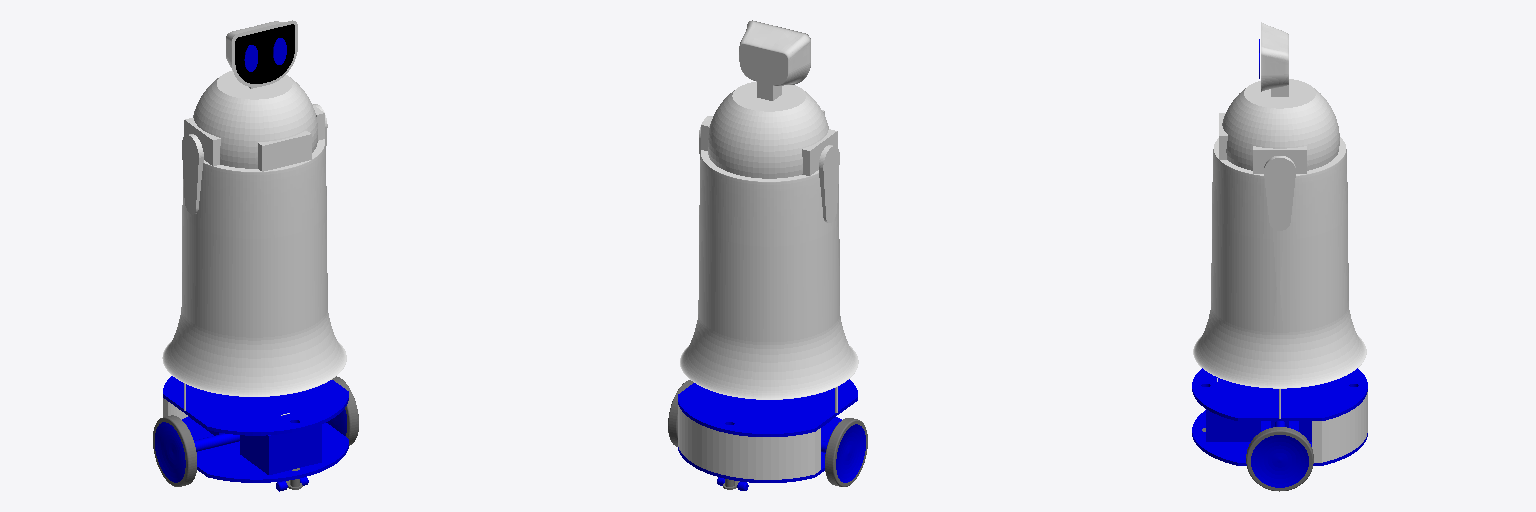
--- What the picture shows (computed from the rendered views, not written in the file) ---
3 views of the same robot in one strip: view 1: azimuth 30°, elevation 25°; view 2: azimuth 150°, elevation 25°; view 3: azimuth 270°, elevation 25° (orthographic).
Model Walter with 13 links and 12 joints (2 revolute, 10 fixed), rooted at fijos_inferior, posed all joints at 0.
Visible links, largest first — view 1: panza, fijos_inferior, cabeza_pecho, rueda, pantalla, rueda_2; view 2: panza, cabeza_pecho, fijos_inferior, rueda; view 3: panza, cabeza_pecho, fijos_inferior, rueda_2.
Link boxes in pixels (box(x1,y1,x2,y2)): panza: box(162, 139, 346, 396); fijos_inferior: box(163, 376, 348, 489); cabeza_pecho: box(182, 20, 327, 214); rueda: box(153, 415, 196, 486); pantalla: box(235, 24, 294, 83); rueda_2: box(326, 376, 358, 445); panza: box(680, 150, 858, 399); cabeza_pecho: box(699, 20, 839, 222); fijos_inferior: box(678, 379, 857, 489); rueda: box(825, 418, 867, 486); panza: box(1193, 137, 1366, 388); cabeza_pecho: box(1219, 22, 1339, 230); fijos_inferior: box(1192, 368, 1367, 465); rueda_2: box(1246, 427, 1313, 491).
Bounding box of the posed robot: 0.52 × 0.4896 × 1.29 m (x, y, z).
30 mesh visuals loaded from 20 distinct referenced files (19 binary STL); not drawn: 1 (reference not matched to a file when rendering).

robot.urdf — Walter:
<robot name="Walter">
<link name="fijos_inferior">
<visual>
<origin xyz="-3.6429192995512948983e-17 0.20637340124470746061 0.010000000000000000208" rpy="0 -0 0" />
<geometry>
<mesh filename="package://meshes/eje_caster.stl"/>
</geometry>
<material name="eje_caster_material">
<color rgba="0.49803921568627451677 0.49803921568627451677 0.49803921568627451677 1.0"/>
</material>
</visual>
<collision>
<origin xyz="-3.6429192995512948983e-17 0.20637340124470746061 0.010000000000000000208" rpy="0 -0 0" />
<geometry>
<mesh filename="package://meshes/eje_caster.stl"/>
</geometry>
</collision>
<visual>
<origin xyz="0 -0.13017340124470738738 0.12430000000000002158" rpy="3.141592653589793116 -0 0" />
<geometry>
<mesh filename="package://meshes/bloque_1.stl"/>
</geometry>
<material name="bloque_1_material">
<color rgba="0 0 1 1.0"/>
</material>
</visual>
<collision>
<origin xyz="0 -0.13017340124470738738 0.12430000000000002158" rpy="3.141592653589793116 -0 0" />
<geometry>
<mesh filename="package://meshes/bloque_1.stl"/>
</geometry>
</collision>
<visual>
<origin xyz="0 0.13017340124470744289 0.12430000000000002158" rpy="3.141592653589793116 -0 0" />
<geometry>
<mesh filename="package://meshes/bloque_1.stl"/>
</geometry>
<material name="bloque_1_material">
<color rgba="0 0 1 1.0"/>
</material>
</visual>
<collision>
<origin xyz="0 0.13017340124470744289 0.12430000000000002158" rpy="3.141592653589793116 -0 0" />
<geometry>
<mesh filename="package://meshes/bloque_1.stl"/>
</geometry>
</collision>
<visual>
<origin xyz="0 0 0.034999999999999975575" rpy="0 -0 1.570796326794896558" />
<geometry>
<mesh filename="package://meshes/eje.stl"/>
</geometry>
<material name="eje_material">
<color rgba="0 0 1 1.0"/>
</material>
</visual>
<collision>
<origin xyz="0 0 0.034999999999999975575" rpy="0 -0 1.570796326794896558" />
<geometry>
<mesh filename="package://meshes/eje.stl"/>
</geometry>
</collision>
<visual>
<origin xyz="0 0 0.010000000000000001943" rpy="0 -0 3.141592653589793116" />
<geometry>
<mesh filename="package://meshes/protector_1.stl"/>
</geometry>
<material name="protector_1_material">
<color rgba="0.91764705882352937127 0.91764705882352937127 0.91764705882352937127 1.0"/>
</material>
</visual>
<collision>
<origin xyz="0 0 0.010000000000000001943" rpy="0 -0 3.141592653589793116" />
<geometry>
<mesh filename="package://meshes/protector_1.stl"/>
</geometry>
</collision>
<visual>
<origin xyz="0 0 0" rpy="0 -0 0" />
<geometry>
<mesh filename="package://meshes/base.stl"/>
</geometry>
<material name="base_material">
<color rgba="0 0 1 1.0"/>
</material>
</visual>
<collision>
<origin xyz="0 0 0" rpy="0 -0 0" />
<geometry>
<mesh filename="package://meshes/base.stl"/>
</geometry>
</collision>
<visual>
<origin xyz="0.21499999999999996891 1.1102230246251565404e-16 0.14700000000000001954" rpy="0 -0 0" />
<geometry>
<mesh filename="package://meshes/varilla.stl"/>
</geometry>
<material name="varilla_material">
<color rgba="0.90196078431372550543 0.90196078431372550543 0.90196078431372550543 1.0"/>
</material>
</visual>
<collision>
<origin xyz="0.21499999999999996891 1.1102230246251565404e-16 0.14700000000000001954" rpy="0 -0 0" />
<geometry>
<mesh filename="package://meshes/varilla.stl"/>
</geometry>
</collision>
<visual>
<origin xyz="-3.7024656657773666662e-17 -0.2063734012447074051 0.010000000000000000208" rpy="0 -0 1.570796326794896558" />
<geometry>
<mesh filename="package://meshes/eje_caster.stl"/>
</geometry>
<material name="eje_caster_material">
<color rgba="0.49803921568627451677 0.49803921568627451677 0.49803921568627451677 1.0"/>
</material>
</visual>
<collision>
<origin xyz="-3.7024656657773666662e-17 -0.2063734012447074051 0.010000000000000000208" rpy="0 -0 1.570796326794896558" />
<geometry>
<mesh filename="package://meshes/eje_caster.stl"/>
</geometry>
</collision>
<visual>
<origin xyz="0 6.3654714215704502031e-17 0.13700000000000001066" rpy="0 -0 0" />
<geometry>
<mesh filename="package://meshes/base.stl"/>
</geometry>
<material name="base_material">
<color rgba="0 0 1 1.0"/>
</material>
</visual>
<collision>
<origin xyz="0 6.3654714215704502031e-17 0.13700000000000001066" rpy="0 -0 0" />
<geometry>
<mesh filename="package://meshes/base.stl"/>
</geometry>
</collision>
<visual>
<origin xyz="-5.8090702579312169077e-17 -0.17462340124470740466 -0.036458000000000004293" rpy="0 -0 -1.570796326794896558" />
<geometry>
<mesh filename="package://meshes/base_caster.stl"/>
</geometry>
<material name="base_caster_material">
<color rgba="0.49803921568627451677 0.49803921568627451677 0.49803921568627451677 1.0"/>
</material>
</visual>
<collision>
<origin xyz="-5.8090702579312169077e-17 -0.17462340124470740466 -0.036458000000000004293" rpy="0 -0 -1.570796326794896558" />
<geometry>
<mesh filename="package://meshes/base_caster.stl"/>
</geometry>
</collision>
<visual>
<origin xyz="-3.6429192995512948983e-17 0.20637340124470746061 -0.036458000000000004293" rpy="0 -0 -1.570796326794896558" />
<geometry>
<mesh filename="package://meshes/base_caster.stl"/>
</geometry>
<material name="base_caster_material">
<color rgba="0.49803921568627451677 0.49803921568627451677 0.49803921568627451677 1.0"/>
</material>
</visual>
<collision>
<origin xyz="-3.6429192995512948983e-17 0.20637340124470746061 -0.036458000000000004293" rpy="0 -0 -1.570796326794896558" />
<geometry>
<mesh filename="package://meshes/base_caster.stl"/>
</geometry>
</collision>
<visual>
<origin xyz="0 0 0.13700000000000001066" rpy="3.141592653589793116 -0 0" />
<geometry>
<mesh filename="package://meshes/protector_2.stl"/>
</geometry>
<material name="protector_2_material">
<color rgba="0.91764705882352937127 0.91764705882352937127 0.91764705882352937127 1.0"/>
</material>
</visual>
<collision>
<origin xyz="0 0 0.13700000000000001066" rpy="3.141592653589793116 -0 0" />
<geometry>
<mesh filename="package://meshes/protector_2.stl"/>
</geometry>
</collision>
<visual>
<origin xyz="0 0 0.010000000000000008882" rpy="0 -0 0" />
<geometry>
<mesh filename="package://meshes/tope.stl"/>
</geometry>
<material name="tope_material">
<color rgba="0 0 1 1.0"/>
</material>
</visual>
<collision>
<origin xyz="0 0 0.010000000000000008882" rpy="0 -0 0" />
<geometry>
<mesh filename="package://meshes/tope.stl"/>
</geometry>
</collision>
<visual>
<origin xyz="-0.21499999999999996891 0 0.14700000000000001954" rpy="0 -0 0" />
<geometry>
<mesh filename="package://meshes/varilla.stl"/>
</geometry>
<material name="varilla_material">
<color rgba="0.90196078431372550543 0.90196078431372550543 0.90196078431372550543 1.0"/>
</material>
</visual>
<collision>
<origin xyz="-0.21499999999999996891 0 0.14700000000000001954" rpy="0 -0 0" />
<geometry>
<mesh filename="package://meshes/varilla.stl"/>
</geometry>
</collision>
<inertial>
<origin xyz="2.1251955677207606018e-17 0.00028433073579385830659 0.063771583106097762261" rpy="0 0 0"/>
<mass value="23.283968733902529635" />
<inertia ixx="0.50758007138293392835" ixy="-4.7143852728836468588e-16"  ixz="-6.6678433607858522691e-18" iyy="0.19735042423805446155" iyz="-6.4405504960079898533e-05" izz="0.64544968232590960167" />
</inertial>
</link>

<link name="rueda">
<visual>
<origin xyz="0 1.7347234759768070944e-18 -0.015000000000000013323" rpy="1.570796326794896558 -4.8166279312749192404e-17 1.1043110575768980303e-17" />
<geometry>
<mesh filename="package://meshes/llanta.stl"/>
</geometry>
<material name="llanta_material">
<color rgba="0.49803921568627451677 0.49803921568627451677 0.49803921568627451677 1.0"/>
</material>
</visual>
<collision>
<origin xyz="0 1.7347234759768070944e-18 -0.015000000000000013323" rpy="1.570796326794896558 -4.8166279312749192404e-17 1.1043110575768980303e-17" />
<geometry>
<mesh filename="package://meshes/llanta.stl"/>
</geometry>
</collision>
<visual>
<origin xyz="0 1.7347234759768070944e-18 -0.015000000000000013323" rpy="1.570796326794896558 4.8166279312749192404e-17 1.1043110575768980303e-17" />
<geometry>
<mesh filename="package://meshes/aro.stl"/>
</geometry>
<material name="aro_material">
<color rgba="0 0 1 1.0"/>
</material>
</visual>
<collision>
<origin xyz="0 1.7347234759768070944e-18 -0.015000000000000013323" rpy="1.570796326794896558 4.8166279312749192404e-17 1.1043110575768980303e-17" />
<geometry>
<mesh filename="package://meshes/aro.stl"/>
</geometry>
</collision>
<inertial>
<origin xyz="-2.2944407627324540557e-19 -1.8380720960163160725e-18 -0.015000000000000016792" rpy="0 0 0"/>
<mass value="1.2695552659388229522" />
<inertia ixx="0.0028062542951225975807" ixy="1.095511843614715085e-19"  ixz="7.0997297655306808473e-20" iyy="0.0028062542951225984481" iyz="-5.5148648330698378161e-36" izz="0.0054879451125068694217" />
</inertial>
</link>

<joint name="1" type="revolute">
<origin xyz="-0.22999999999999992673 4.0679265511656125131e-17 0.03500000000000001027" rpy="1.570796326794896558 1.3479208634112187504 1.570796326794896558" />
<parent link="fijos_inferior" />
<child link="rueda" />
<axis xyz="0 0 1"/>
<limit effort="1.5" velocity="22" />
<joint_properties friction="0.0"/>
</joint>

<link name="rueda_2">
<visual>
<origin xyz="0 0 -0.014999999999999985567" rpy="-1.570796326794896558 4.8166279312749512878e-17 -1.1024719869637745434e-17" />
<geometry>
<mesh filename="package://meshes/llanta.stl"/>
</geometry>
<material name="llanta_material">
<color rgba="0.49803921568627451677 0.49803921568627451677 0.49803921568627451677 1.0"/>
</material>
</visual>
<collision>
<origin xyz="0 0 -0.014999999999999985567" rpy="-1.570796326794896558 4.8166279312749512878e-17 -1.1024719869637745434e-17" />
<geometry>
<mesh filename="package://meshes/llanta.stl"/>
</geometry>
</collision>
<visual>
<origin xyz="0 0 -0.015000000000000013323" rpy="-1.570796326794896558 -4.8166279312749364967e-17 -1.1024719869637745434e-17" />
<geometry>
<mesh filename="package://meshes/aro.stl"/>
</geometry>
<material name="aro_material">
<color rgba="0 0 1 1.0"/>
</material>
</visual>
<collision>
<origin xyz="0 0 -0.015000000000000013323" rpy="-1.570796326794896558 -4.8166279312749364967e-17 -1.1024719869637745434e-17" />
<geometry>
<mesh filename="package://meshes/aro.stl"/>
</geometry>
</collision>
<inertial>
<origin xyz="-2.2944407627324569446e-19 3.5727955719931231669e-18 -0.015000000000000009853" rpy="0 0 0"/>
<mass value="1.2695552659388229522" />
<inertia ixx="0.0028062542951225984481" ixy="-2.3335162055093149995e-19"  ixz="-7.0997297655306591806e-20" iyy="0.0028062542951225984481" iyz="5.5134361936445202724e-34" izz="0.0054879451125068694217" />
</inertial>
</link>

<joint name="2" type="revolute">
<origin xyz="0.23000000000000012101 4.4884677021720767459e-17 0.034999999999999989453" rpy="-1.5707963267948978903 -0.60873111125920864595 1.5707963267948985564" />
<parent link="fijos_inferior" />
<child link="rueda_2" />
<axis xyz="0 0 1"/>
<limit effort="1.5" velocity="22" />
<joint_properties friction="0.0"/>
</joint>

<link name="liddar">
<visual>
<origin xyz="-0.03125 0 0.01100000000000000977" rpy="1.570796326794896558 -0 0" />
<geometry>
<mesh filename="package://meshes/part_1.stl"/>
</geometry>
<material name="part_1_material">
<color rgba="0.91764705882352937127 0.91764705882352937127 0.91764705882352937127 1.0"/>
</material>
</visual>
<collision>
<origin xyz="-0.03125 0 0.01100000000000000977" rpy="1.570796326794896558 -0 0" />
<geometry>
<mesh filename="package://meshes/part_1.stl"/>
</geometry>
</collision>
<inertial>
<origin xyz="-0.038734485201552086575 -9.2325881086795992428e-05 0.021764248468522234825" rpy="0 0 0"/>
<mass value="1.3929559942642173453" />
<inertia ixx="0.00063952876804769932632" ixy="-8.4298114404622090972e-07"  ixz="0.00016632665719893305703" iyy="0.00099920562721058227111" iyz="-3.2625366799132093687e-06" izz="0.0011434531478747636535" />
</inertial>
</link>

<joint name="liddar_joint" type="fixed">
<origin xyz="-1.0408340855860842566e-17 -0.20637340124470737734 0.14700000000000001954" rpy="0 -0 -1.570796326794896558" />
<parent link="fijos_inferior" />
<child link="liddar" />
<axis xyz="0 0 1"/>
<limit effort="1.5" velocity="22" />
<joint_properties friction="0.0"/>
</joint>

<link name="panza">
<visual>
<origin xyz="0 1.4818226269682977973e-17 0" rpy="3.141592653589793116 -0 0" />
<geometry>
<mesh filename="package://meshes/torso.stl"/>
</geometry>
<material name="torso_material">
<color rgba="0.91764705882352937127 0.91764705882352937127 0.91764705882352937127 1.0"/>
</material>
</visual>
<collision>
<origin xyz="0 1.4818226269682977973e-17 0" rpy="3.141592653589793116 -0 0" />
<geometry>
<mesh filename="package://meshes/torso.stl"/>
</geometry>
</collision>
<inertial>
<origin xyz="3.5366736310120974436e-06 1.016494425031958053e-06 -0.10404383296951648374" rpy="0 0 0"/>
<mass value="37.981250382069397631" />
<inertia ixx="0.93147768307078449013" ixy="-1.0314156922500628319e-05"  ixz="-3.7114421258874762019e-06" iyy="0.93168041764494147206" iyz="-1.7562940793422002905e-06" izz="0.68744587515199118144" />
</inertial>
</link>

<link name="cabeza_pecho">
<visual>
<origin xyz="0 0 0" rpy="3.141592653589793116 -0 0" />
<geometry>
<mesh filename="package://meshes/pecho.stl"/>
</geometry>
<material name="pecho_material">
<color rgba="0.90196078431372550543 0.90196078431372550543 0.90196078431372550543 1.0"/>
</material>
</visual>
<collision>
<origin xyz="0 0 0" rpy="3.141592653589793116 -0 0" />
<geometry>
<mesh filename="package://meshes/pecho.stl"/>
</geometry>
</collision>
<visual>
<origin xyz="0.035000000000000003331 -2.6020852139652106416e-18 -0.26999999999999979572" rpy="3.141592653589793116 -7.7355025826137686325e-17 -7.3589012180439136812e-17" />
<geometry>
<mesh filename="package://meshes/cabeza.stl"/>
</geometry>
<material name="cabeza_material">
<color rgba="0.90196078431372550543 0.90196078431372550543 0.90196078431372550543 1.0"/>
</material>
</visual>
<collision>
<origin xyz="0.035000000000000003331 -2.6020852139652106416e-18 -0.26999999999999979572" rpy="3.141592653589793116 -7.7355025826137686325e-17 -7.3589012180439136812e-17" />
<geometry>
<mesh filename="package://meshes/cabeza.stl"/>
</geometry>
</collision>
<visual>
<origin xyz="5.1223973916507838371e-18 0.19500000000000003442 -0.017780000000000018012" rpy="3.141592653589793116 -6.0722997586192119681e-17 -3.141592653589793116" />
<geometry>
<mesh filename="package://meshes/brazo1.stl"/>
</geometry>
<material name="brazo1_material">
<color rgba="0.90196078431372550543 0.90196078431372550543 0.90196078431372550543 1.0"/>
</material>
</visual>
<collision>
<origin xyz="5.1223973916507838371e-18 0.19500000000000003442 -0.017780000000000018012" rpy="3.141592653589793116 -6.0722997586192119681e-17 -3.141592653589793116" />
<geometry>
<mesh filename="package://meshes/brazo1.stl"/>
</geometry>
</collision>
<visual>
<origin xyz="-7.6387795496199423289e-18 -0.18000000000000002109 -0.017780000000000018012" rpy="3.141592653589793116 -0 -3.141592653589793116" />
<geometry>
<mesh filename="package://meshes/brazo1.stl"/>
</geometry>
<material name="brazo1_material">
<color rgba="0.90196078431372550543 0.90196078431372550543 0.90196078431372550543 1.0"/>
</material>
</visual>
<collision>
<origin xyz="-7.6387795496199423289e-18 -0.18000000000000002109 -0.017780000000000018012" rpy="3.141592653589793116 -0 -3.141592653589793116" />
<geometry>
<mesh filename="package://meshes/brazo1.stl"/>
</geometry>
</collision>
<inertial>
<origin xyz="0.0027210420105864435193 -0.00020045946930026377016 -0.096581144323558784648" rpy="0 0 0"/>
<mass value="32.542285355597933005" />
<inertia ixx="0.45532393141777993684" ixy="-3.1430516357851728858e-05"  ixz="0.0062540021383989292947" iyy="0.40737380981547899328" iyz="-0.0011563569028698351959" izz="0.38850024788656384311" />
</inertial>
</link>

<link name="pantalla">
<visual>
<origin xyz="-4.1633363423443370266e-17 -0.0063773533988664699024 -0.0010000000000000008882" rpy="-1.570796326794896558 -1.570796326794896558 0" />
<geometry>
<mesh filename="package://meshes/pantalla.stl"/>
</geometry>
<material name="pantalla_material">
<color rgba="0 0 0 1.0"/>
</material>
</visual>
<collision>
<origin xyz="-4.1633363423443370266e-17 -0.0063773533988664699024 -0.0010000000000000008882" rpy="-1.570796326794896558 -1.570796326794896558 0" />
<geometry>
<mesh filename="package://meshes/pantalla.stl"/>
</geometry>
</collision>
<inertial>
<origin xyz="-4.9059556066039210652e-18 -9.8879238130678004381e-17 -0.00050000000000000087777" rpy="0 0 0"/>
<mass value="0.052708425382244718238" />
<inertia ixx="8.75188852943167752e-05" ixy="0"  ixz="7.3163984344922236004e-37" iyy="0.00012648147131393697238" iyz="0" izz="0.00021399157187069003548" />
</inertial>
</link>

<link name="ojo_der">
<visual>
<origin xyz="0.049288700000000004731 -0.015239999999999920277 -0.0030000000000000026645" rpy="-1.570796326794896558 4.5998421556777242306e-33 0" />
<geometry>
<mesh filename="package://meshes/ojo1.stl"/>
</geometry>
<material name="ojo1_material">
<color rgba="0 0 1 1.0"/>
</material>
</visual>
<collision>
<origin xyz="0.049288700000000004731 -0.015239999999999920277 -0.0030000000000000026645" rpy="-1.570796326794896558 4.5998421556777242306e-33 0" />
<geometry>
<mesh filename="package://meshes/ojo1.stl"/>
</geometry>
</collision>
<inertial>
<origin xyz="-2.1725723654136830376e-07 -4.1358975869099090517e-07 -0.0015000000000000024165" rpy="0 0 0"/>
<mass value="0.016158389381498900611" />
<inertia ixx="6.2099029968954678815e-06" ixy="-1.3050423685354312141e-10"  ixz="-1.2937429533846938739e-14" iyy="1.6722806386780241734e-06" iyz="7.6244819049309471189e-38" izz="7.8579465371037161289e-06" />
</inertial>
</link>

<joint name="ojo_der_joint" type="fixed">
<origin xyz="0.043180000000000003102 0 -0.00099999999999999394928" rpy="1.3558546808486146974e-31 -5.551115123125774074e-17 3.141592653589793116" />
<parent link="pantalla" />
<child link="ojo_der" />
<axis xyz="0 0 1"/>
<limit effort="1.5" velocity="22" />
<joint_properties friction="0.0"/>
</joint>

<link name="ojo_izq">
<visual>
<origin xyz="-0.049288700000000004731 -0.015239999999999920277 -0.0030000000000000026645" rpy="-1.570796326794896558 4.5998421556777242306e-33 0" />
<geometry>
<mesh filename="package://meshes/ojo2.stl"/>
</geometry>
<material name="ojo2_material">
<color rgba="0 0 1 1.0"/>
</material>
</visual>
<collision>
<origin xyz="-0.049288700000000004731 -0.015239999999999920277 -0.0030000000000000026645" rpy="-1.570796326794896558 4.5998421556777242306e-33 0" />
<geometry>
<mesh filename="package://meshes/ojo2.stl"/>
</geometry>
</collision>
<inertial>
<origin xyz="-2.1725723653442940986e-07 -4.1358975869446035212e-07 -0.0015000000000000026333" rpy="0 0 0"/>
<mass value="0.016158389381498900611" />
<inertia ixx="6.2099029968954653404e-06" ixy="-1.3050423685349602382e-10"  ixz="-1.2937429532790463083e-14" iyy="1.6722806386780231146e-06" iyz="7.6244819049309439868e-38" izz="7.8579465371037127407e-06" />
</inertial>
</link>

<joint name="ojo_izq_joint" type="fixed">
<origin xyz="-0.043180000000000003102 0 -0.0010000000000000008882" rpy="1.3558546808486146974e-31 -5.551115123125774074e-17 3.141592653589793116" />
<parent link="pantalla" />
<child link="ojo_izq" />
<axis xyz="0 0 1"/>
<limit effort="1.5" velocity="22" />
<joint_properties friction="0.0"/>
</joint>

<joint name="pantalla_joint" type="fixed">
<origin xyz="0.054499999999999999833 -0.00049666369844008923656 -0.27584611507324807711" rpy="-1.57079632679489678 2.8017321897530420856e-17 1.57079632679489678" />
<parent link="cabeza_pecho" />
<child link="pantalla" />
<axis xyz="0 0 1"/>
<limit effort="1.5" velocity="22" />
<joint_properties friction="0.0"/>
</joint>

<joint name="pecho" type="fixed">
<origin xyz="0 5.9395369758646683919e-18 -0.62500540000000015528" rpy="0 -0 1.57079632679489678" />
<parent link="panza" />
<child link="cabeza_pecho" />
<axis xyz="0 0 1"/>
<limit effort="1.5" velocity="22" />
<joint_properties friction="0.0"/>
</joint>

<joint name="cuerpo" type="fixed">
<origin xyz="-0.0039999999999999480416 4.2838032503982816898e-17 0.24860000000000004317" rpy="3.141592653589793116 -0 0" />
<parent link="fijos_inferior" />
<child link="panza" />
<axis xyz="0 0 1"/>
<limit effort="1.5" velocity="22" />
<joint_properties friction="0.0"/>
</joint>

<link name="llantita_1">
<visual>
<origin xyz="0 0 -0.012700000000000002953" rpy="-1.570796326794896558 -0 0" />
<geometry>
<mesh filename="package://meshes/llanta_izquierda.stl"/>
</geometry>
<material name="llanta_izquierda_material">
<color rgba="0 0 1 1.0"/>
</material>
</visual>
<collision>
<origin xyz="0 0 -0.012700000000000002953" rpy="-1.570796326794896558 -0 0" />
<geometry>
<mesh filename="package://meshes/llanta_izquierda.stl"/>
</geometry>
</collision>
<inertial>
<origin xyz="-5.1779413895018431277e-67 1.6788122156820142359e-18 -0.012700000000000001218" rpy="0 0 0"/>
<mass value="0.082635318611771216291" />
<inertia ixx="1.214070374013348147e-05" ixy="0"  ixz="0" iyy="1.2140703740133479776e-05" iyz="0" izz="1.5964940515841221383e-05" />
</inertial>
</link>

<joint name="llantita_1_joint" type="fixed">
<origin xyz="0.01904999999999994198 -0.19049840124470740488 -0.038998000000000004883" rpy="1.570796326794896558 -0 -1.570796326794896558" />
<parent link="fijos_inferior" />
<child link="llantita_1" />
<axis xyz="0 0 1"/>
<limit effort="1.5" velocity="22" />
<joint_properties friction="0.0"/>
</joint>

<link name="llantita_2">
<visual>
<origin xyz="0 0 -0.012700000000000002953" rpy="-1.570796326794896558 -0 0" />
<geometry>
<mesh filename="package://meshes/llanta_izquierda.stl"/>
</geometry>
<material name="llanta_izquierda_material">
<color rgba="0 0 1 1.0"/>
</material>
</visual>
<collision>
<origin xyz="0 0 -0.012700000000000002953" rpy="-1.570796326794896558 -0 0" />
<geometry>
<mesh filename="package://meshes/llanta_izquierda.stl"/>
</geometry>
</collision>
<inertial>
<origin xyz="-5.1779413895018431277e-67 1.6788122156820142359e-18 -0.012700000000000001218" rpy="0 0 0"/>
<mass value="0.082635318611771216291" />
<inertia ixx="1.214070374013348147e-05" ixy="0"  ixz="0" iyy="1.2140703740133479776e-05" iyz="0" izz="1.5964940515841221383e-05" />
</inertial>
</link>

<joint name="llantita_2_joint" type="fixed">
<origin xyz="-0.019050000000000059941 -0.19049840124470740488 -0.038998000000000004883" rpy="-1.570796326794896558 -0 -1.570796326794896558" />
<parent link="fijos_inferior" />
<child link="llantita_2" />
<axis xyz="0 0 1"/>
<limit effort="1.5" velocity="22" />
<joint_properties friction="0.0"/>
</joint>

<link name="llantita_3">
<visual>
<origin xyz="0 0 -0.012700000000000002953" rpy="1.570796326794896558 -0 0" />
<geometry>
<mesh filename="package://meshes/llanta_izquierda.stl"/>
</geometry>
<material name="llanta_izquierda_material">
<color rgba="0 0 1 1.0"/>
</material>
</visual>
<collision>
<origin xyz="0 0 -0.012700000000000002953" rpy="1.570796326794896558 -0 0" />
<geometry>
<mesh filename="package://meshes/llanta_izquierda.stl"/>
</geometry>
</collision>
<inertial>
<origin xyz="-5.1779413895018431277e-67 -1.6788122156820142359e-18 -0.012700000000000001218" rpy="0 0 0"/>
<mass value="0.082635318611771216291" />
<inertia ixx="1.214070374013348147e-05" ixy="0"  ixz="0" iyy="1.2140703740133479776e-05" iyz="0" izz="1.5964940515841221383e-05" />
</inertial>
</link>

<joint name="llantita_3_joint" type="fixed">
<origin xyz="-0.019050000000000039124 0.19049840124470746039 -0.038998000000000004883" rpy="-1.570796326794896558 -0 -1.570796326794896558" />
<parent link="fijos_inferior" />
<child link="llantita_3" />
<axis xyz="0 0 1"/>
<limit effort="1.5" velocity="22" />
<joint_properties friction="0.0"/>
</joint>

<link name="llantita_4">
<visual>
<origin xyz="0 0 -0.012700000000000002953" rpy="1.570796326794896558 -0 0" />
<geometry>
<mesh filename="package://meshes/llanta_izquierda.stl"/>
</geometry>
<material name="llanta_izquierda_material">
<color rgba="0 0 1 1.0"/>
</material>
</visual>
<collision>
<origin xyz="0 0 -0.012700000000000002953" rpy="1.570796326794896558 -0 0" />
<geometry>
<mesh filename="package://meshes/llanta_izquierda.stl"/>
</geometry>
</collision>
<inertial>
<origin xyz="-5.1779413895018431277e-67 -1.6788122156820142359e-18 -0.012700000000000001218" rpy="0 0 0"/>
<mass value="0.082635318611771216291" />
<inertia ixx="1.214070374013348147e-05" ixy="0"  ixz="0" iyy="1.2140703740133479776e-05" iyz="0" izz="1.5964940515841221383e-05" />
</inertial>
</link>

<joint name="llantita_4_joint" type="fixed">
<origin xyz="0.019049999999999962796 0.19049840124470746039 -0.038998000000000004883" rpy="1.570796326794896558 -0 -1.570796326794896558" />
<parent link="fijos_inferior" />
<child link="llantita_4" />
<axis xyz="0 0 1"/>
<limit effort="1.5" velocity="22" />
<joint_properties friction="0.0"/>
</joint>


</robot>
